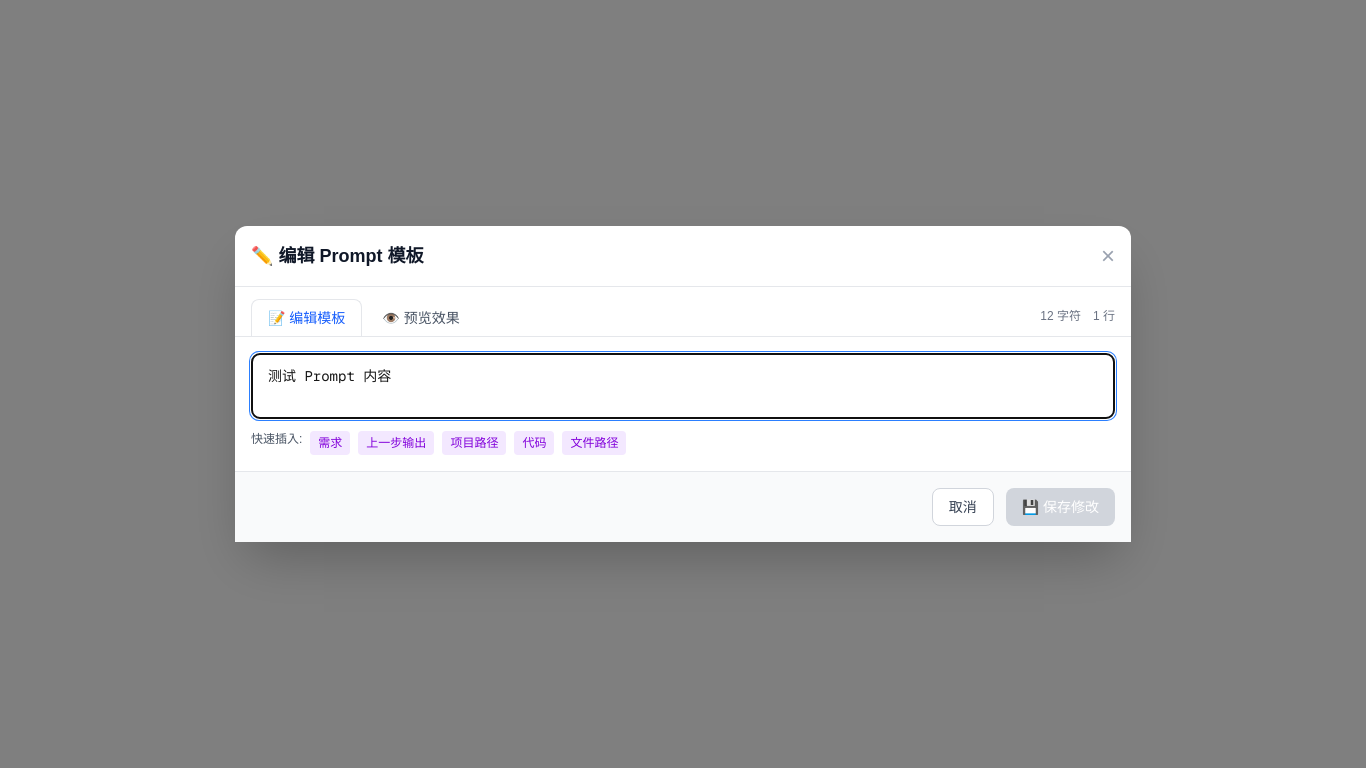
Test: PromptEditorModal › 切换到预览模式应该显示预览内容
The image size is (1366, 768).
Click the button "👁️ 预览效果".
click(421, 318)  # box [366, 300, 476, 336]
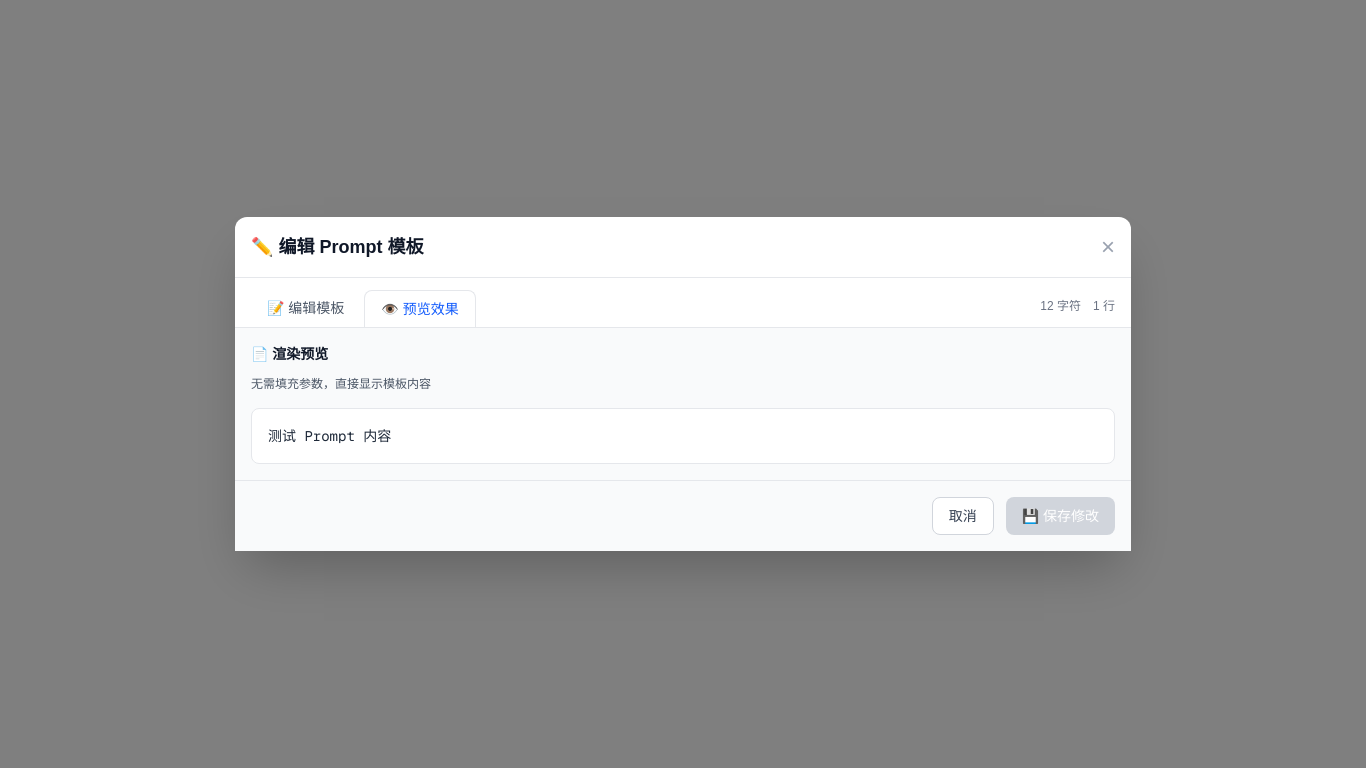
Check: the heading "📄 渲染预览" is shown, box [251, 346, 328, 362]
